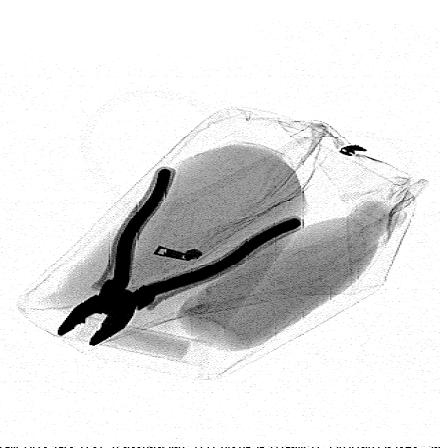Pliers: (56, 165, 302, 348)
